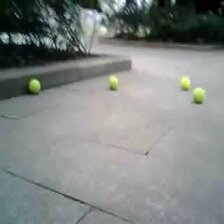tennis: (192, 86, 206, 103), (29, 79, 40, 94), (108, 76, 119, 89), (180, 77, 190, 91)
